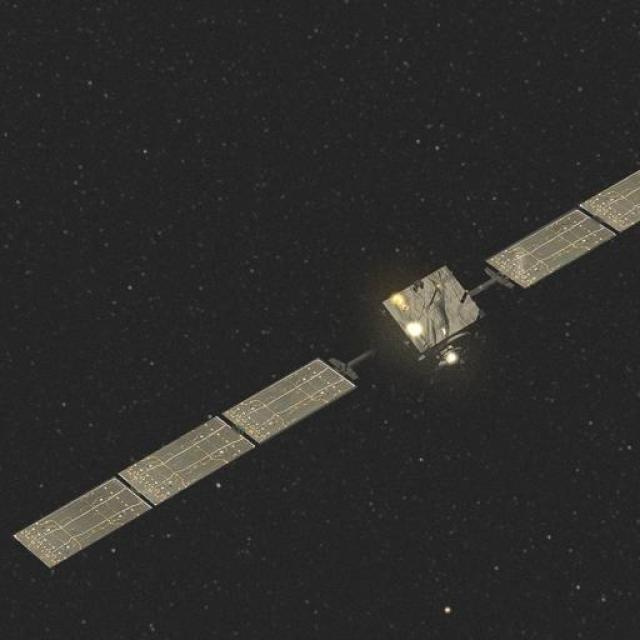smart_1: (198, 166, 606, 470)
